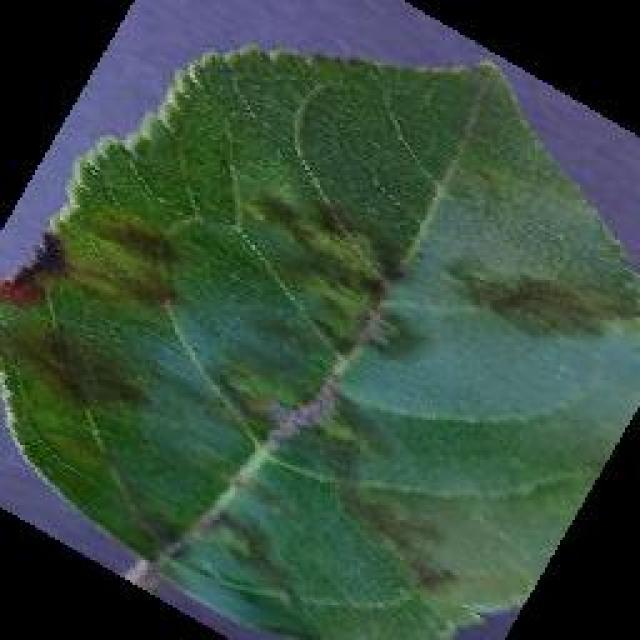apple scab disease: (0, 40, 638, 638)
